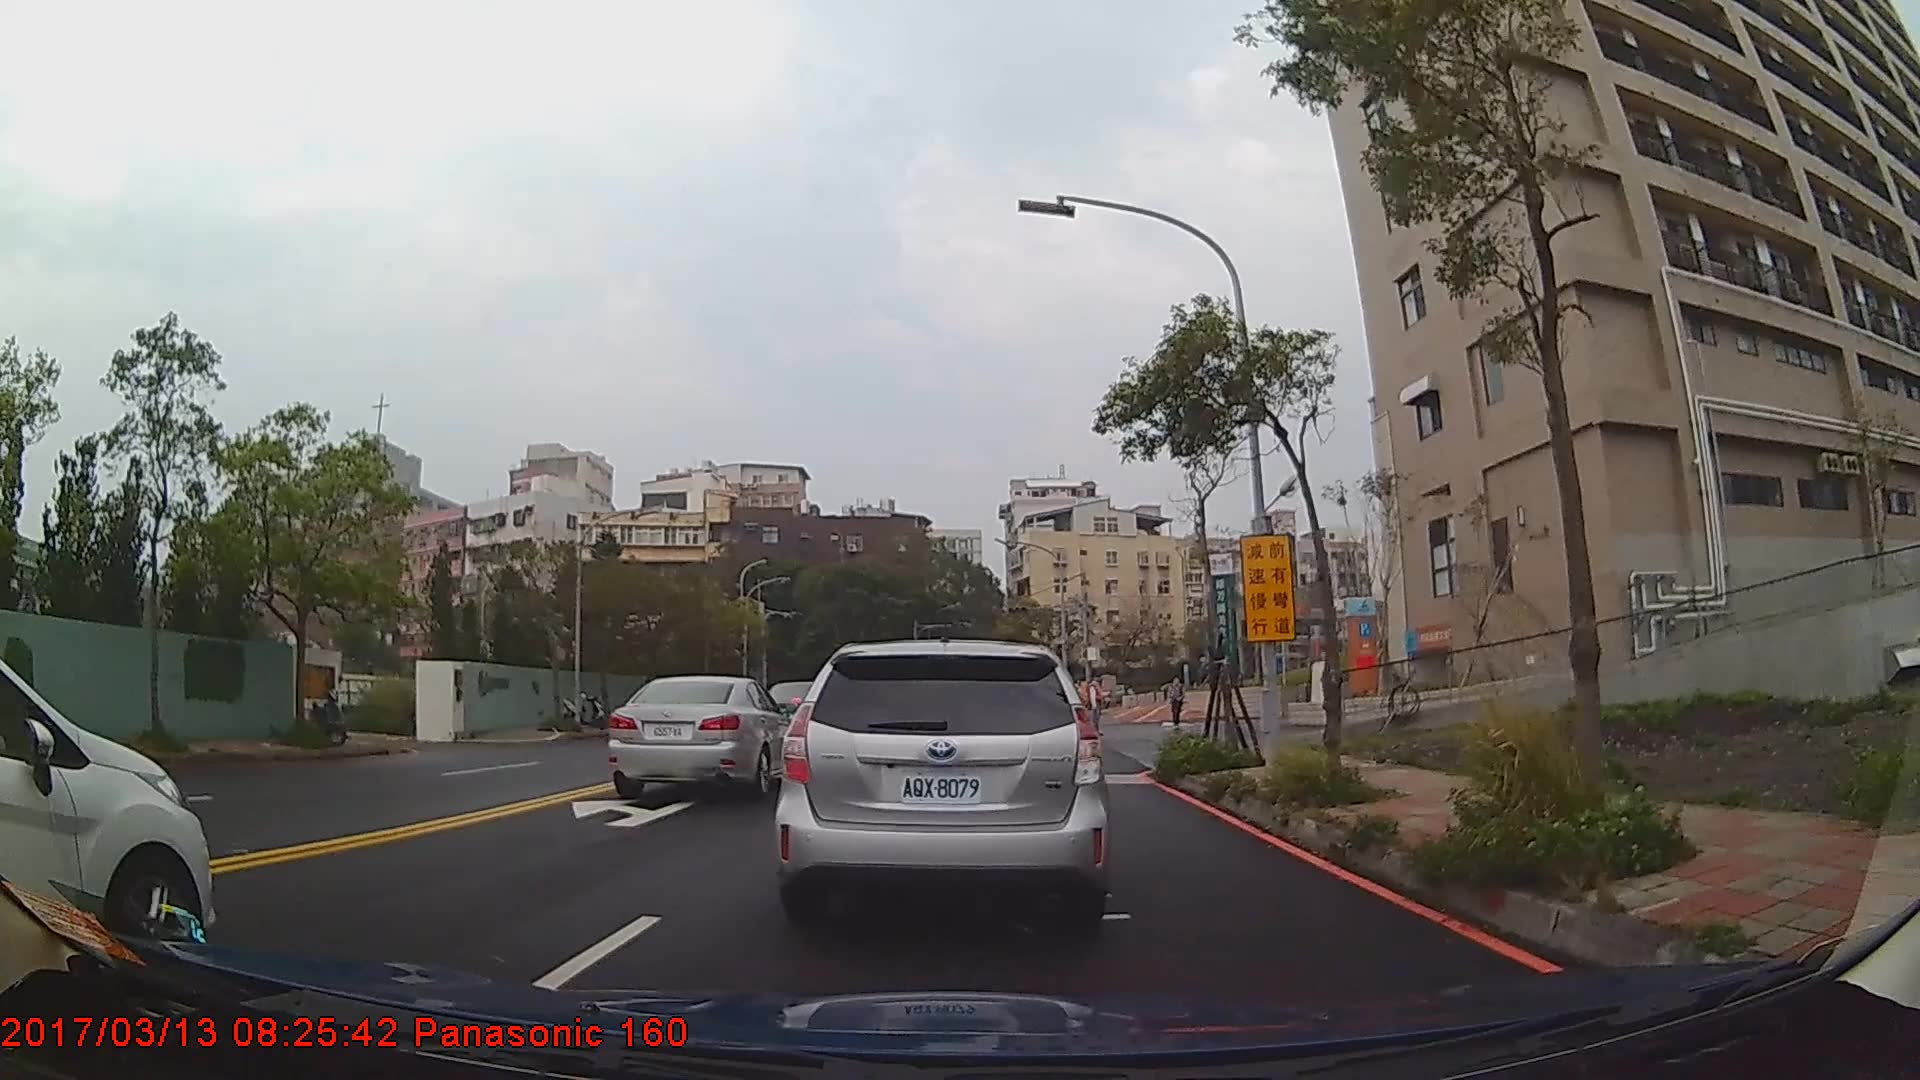pedestrian: (1085, 668, 1111, 742), (1169, 677, 1189, 731)
vehicle: (773, 637, 1113, 939), (0, 659, 217, 968), (609, 674, 795, 798)
